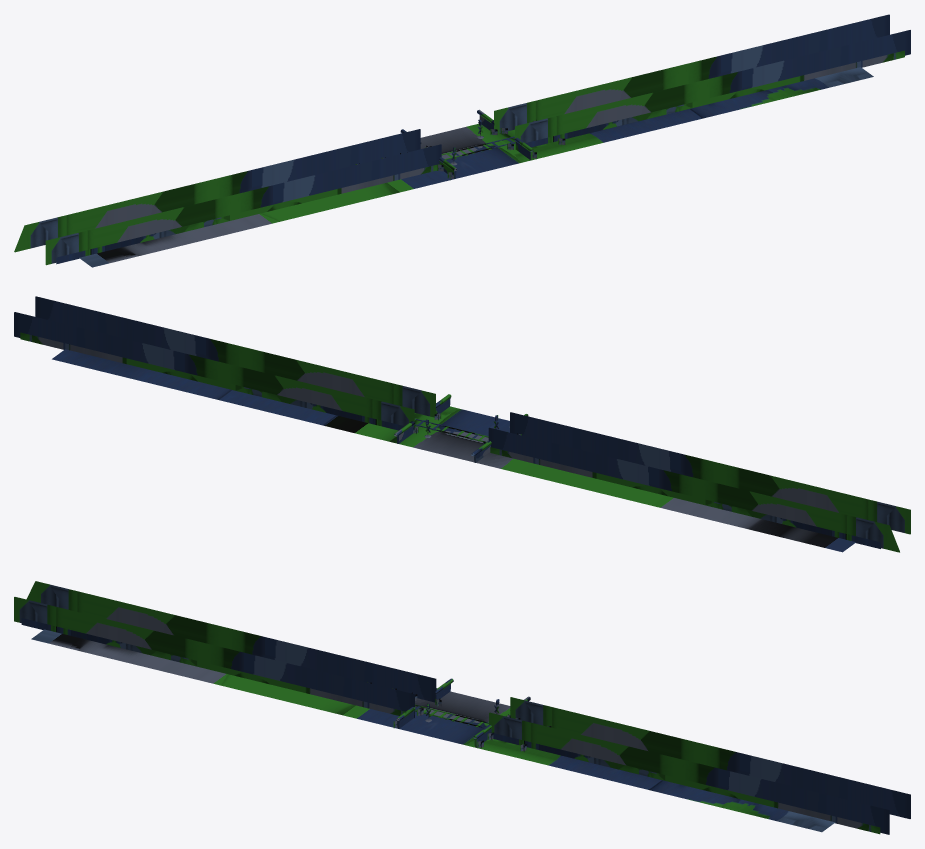
Rendered from railway.obj.
3 views of the same model, one above another, from view 1: azimuth 30°, elevation 25°; view 2: azimuth 150°, elevation 25°; view 3: azimuth 330°, elevation 25° (orthographic).
Visible parts, largest first — view 1: pCube59; view 2: pCube59; view 3: pCube59.
Part boxes in pixels (<box>): pCube59: <box>14,14,910,267</box>; pCube59: <box>14,296,910,552</box>; pCube59: <box>14,581,910,834</box>.
Bounding box in the file's own units: 334 × 9.43 × 35.2.
